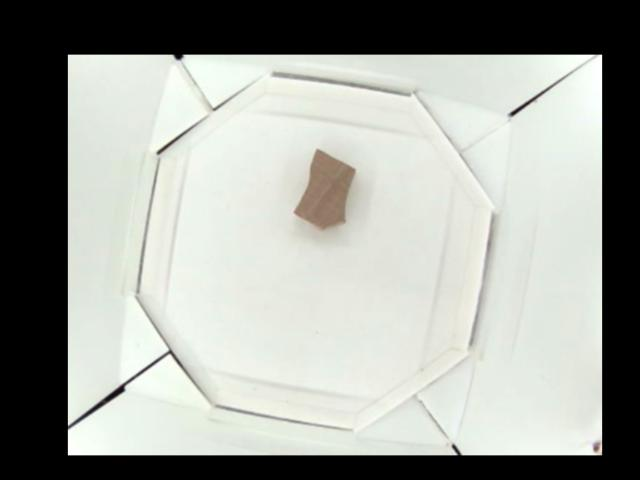China: (292, 148, 355, 229)
